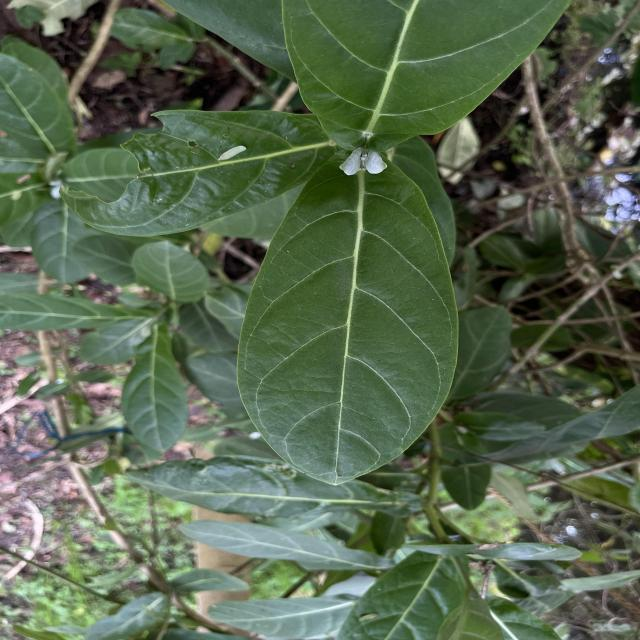Calotropis gigantea: (233, 150, 462, 488), (120, 352, 190, 453), (131, 239, 211, 304)
